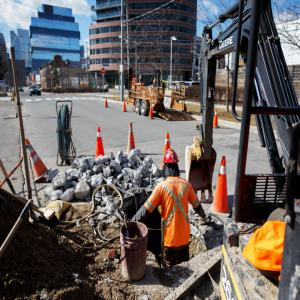red: (164, 149, 180, 173)
